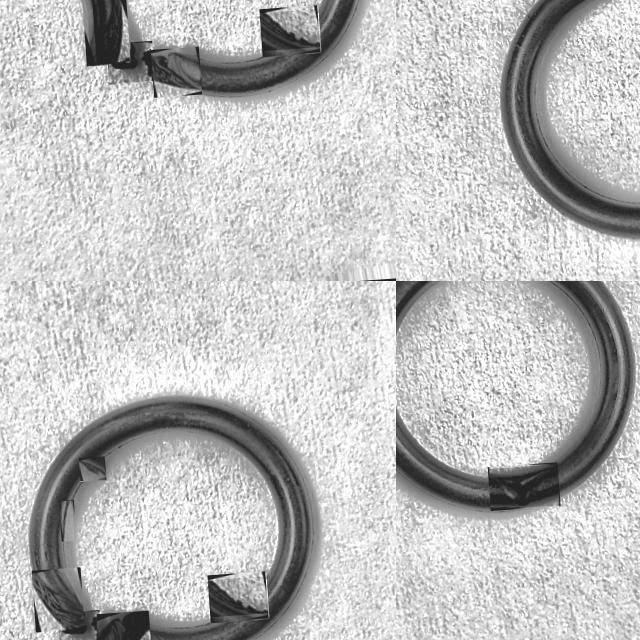切割缺陷: (489, 465, 558, 508), (32, 574, 84, 629), (151, 52, 201, 90), (97, 0, 123, 64), (104, 610, 148, 640)
挤压缺陷: (109, 42, 153, 81), (59, 611, 100, 640)
裂纹: (259, 13, 320, 47), (207, 580, 268, 613), (79, 461, 105, 478), (63, 499, 71, 541)
